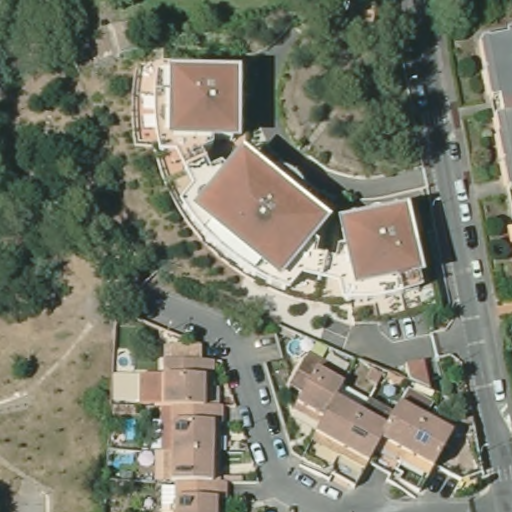pool: (119, 413, 139, 445), (111, 452, 141, 473), (286, 339, 307, 358), (119, 357, 134, 370)
